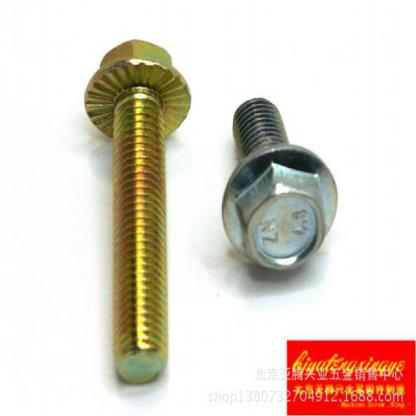FOD: (84, 38, 192, 380), (217, 93, 343, 266)
